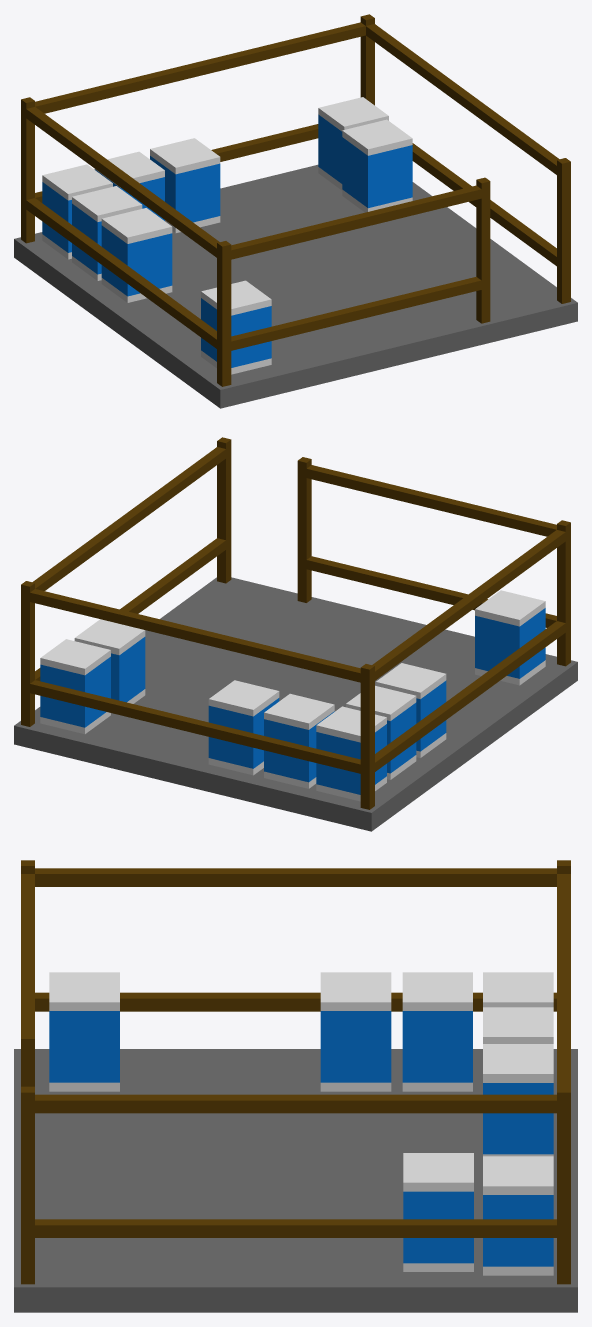
File: Outside storage.fbx
The picture shows the model from 3 angles, top to bottom: view 1: azimuth 30°, elevation 25°; view 2: azimuth 150°, elevation 25°; view 3: azimuth 270°, elevation 25°; orthographic projection. The views are drawn at different scales.
Parts seen in each view (by area): view 1: Outside storage; view 2: Outside storage; view 3: Outside storage.
Part boxes in pixels (x1,y1,x2,y2): Outside storage: [14, 14, 577, 408]; Outside storage: [14, 437, 577, 831]; Outside storage: [14, 860, 577, 1312].
Size of the model in its own units: 400 by 170 by 400.
